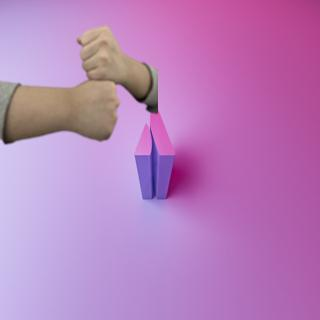CAREFUL: (16, 27, 148, 143)
